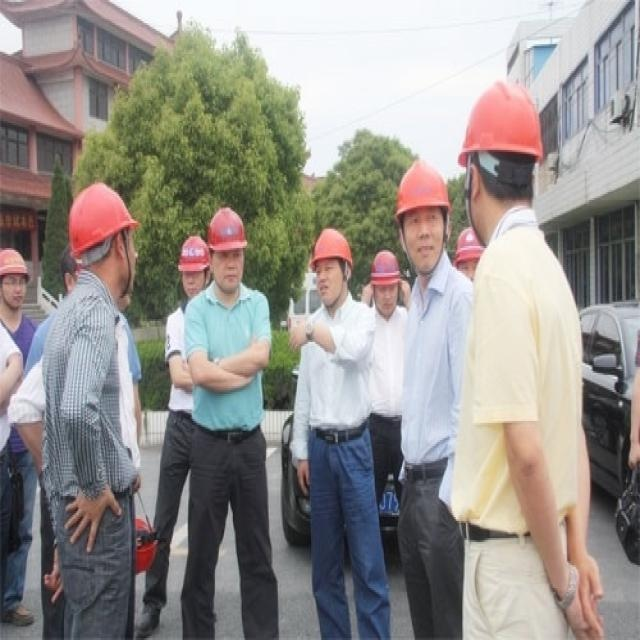Con_Casco: (207, 208, 248, 291), (312, 225, 352, 306)
